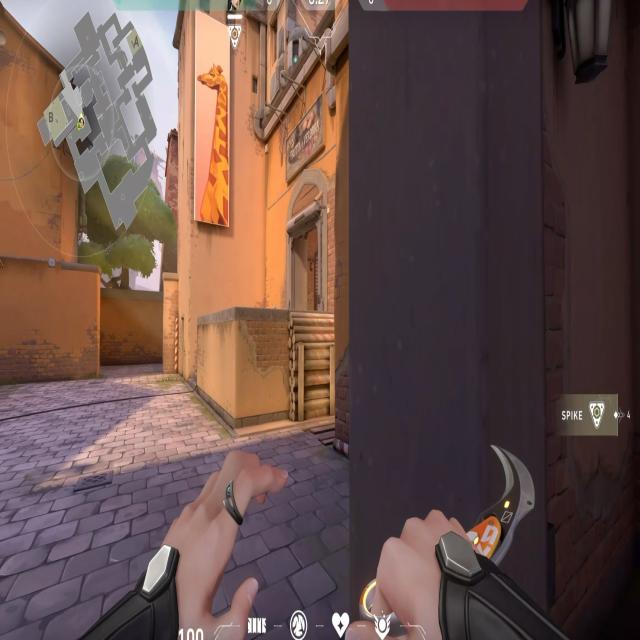B_Cubby: (228, 297, 334, 421)
